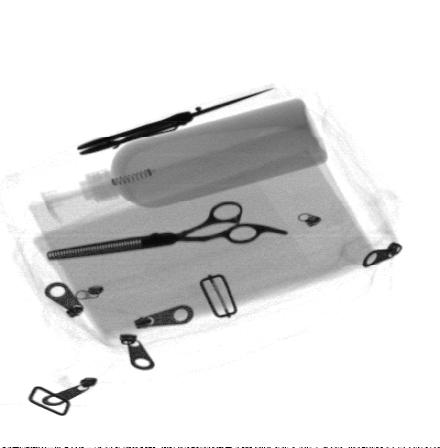Knife: (77, 87, 273, 156)
Scissors: (45, 201, 292, 260)
